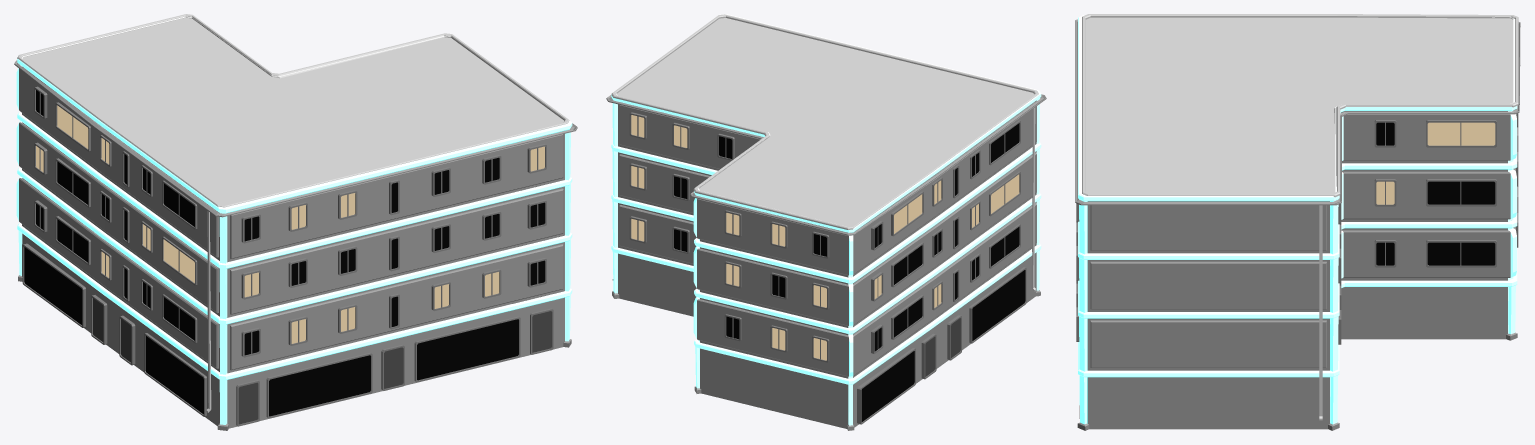
File: Building_Big_Corner_0_Size_2.fbx
3 renders of one model, left to right at view 1: azimuth 30°, elevation 25°; view 2: azimuth 150°, elevation 25°; view 3: azimuth 270°, elevation 25°, orthographic. The views are drawn at different scales.
Visible parts, largest first — view 1: Building_Big_Corner_0_Size_2; view 2: Building_Big_Corner_0_Size_2; view 3: Building_Big_Corner_0_Size_2.
Part boxes in pixels (x1,y1,x2,y2): Building_Big_Corner_0_Size_2: (14,14,577,430); Building_Big_Corner_0_Size_2: (606,14,1046,430); Building_Big_Corner_0_Size_2: (1075,14,1520,430).
Bounding box in the file's own units: 2614 × 1541 × 2636.
